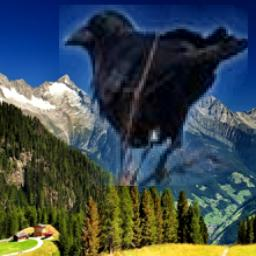Crow: (60, 6, 249, 187)
